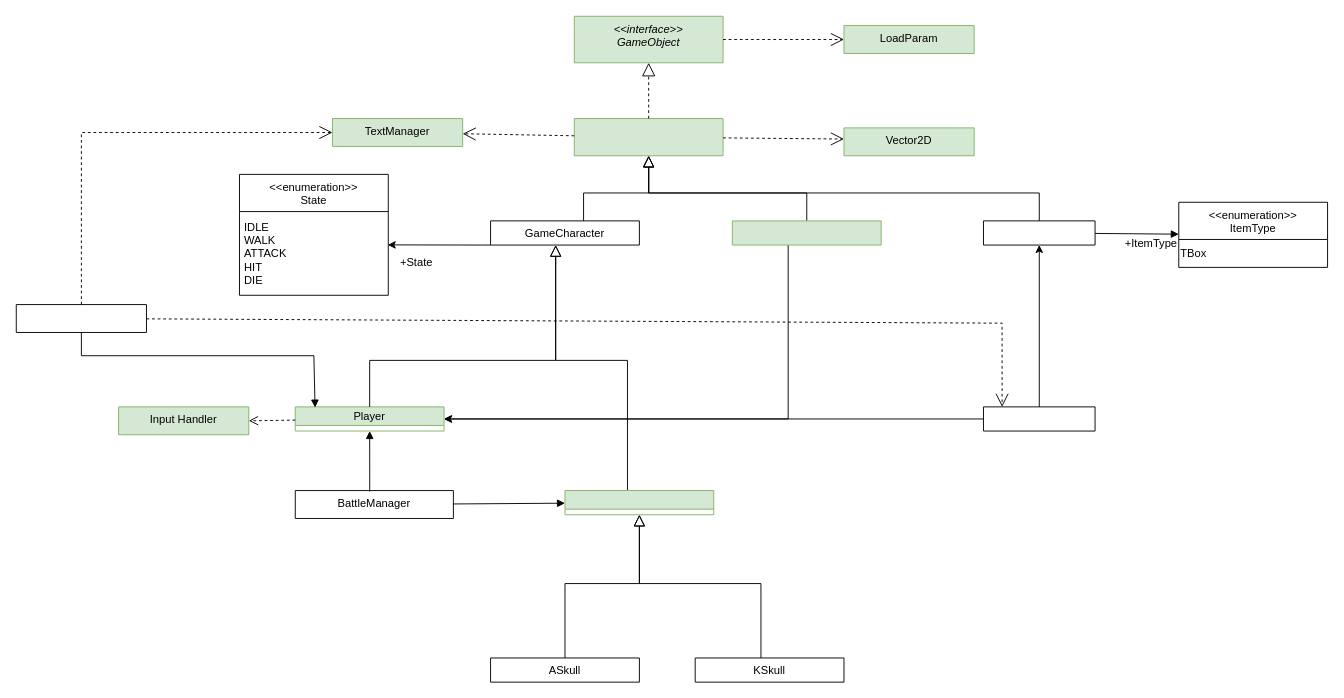
The diagram is 1344 pixels wide and 698 high, and some of its shapes have lost their labels. Here are the shapes that lost their labels. From the top down, the centre of each, then its label:
At (x=648, y=137): "SDL GameObject".
At (x=806, y=232): "BackGround".
At (x=1039, y=232): "Item".
At (x=80, y=318): "InterfaceManger".
At (x=1039, y=418): "ColliderManager".
At (x=639, y=502): "Monster".
